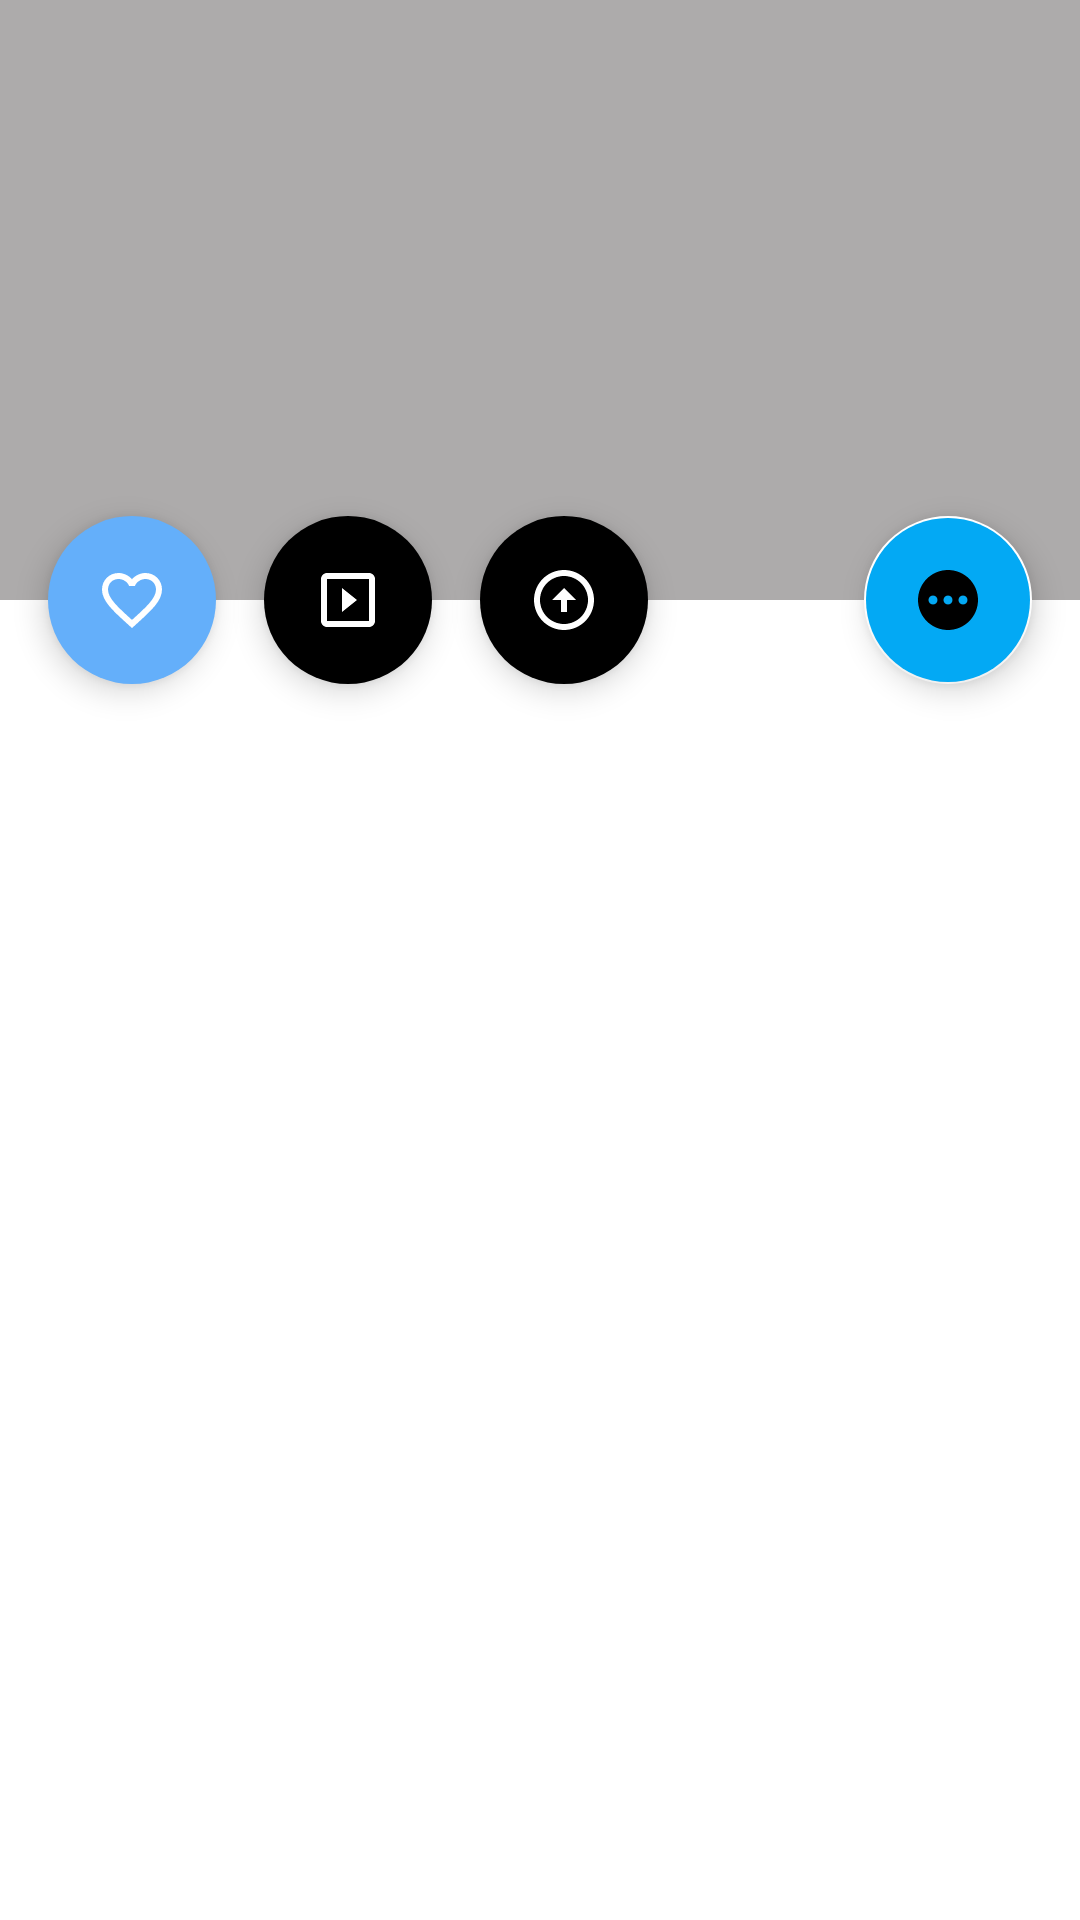

Where to tap for icons on this 1080×1920 app screen, as point (x, y):
favorite border: point (132, 600)
